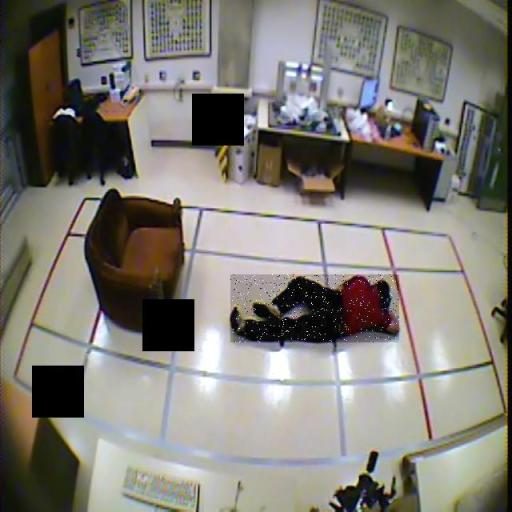Fall: (231, 275, 400, 343)
